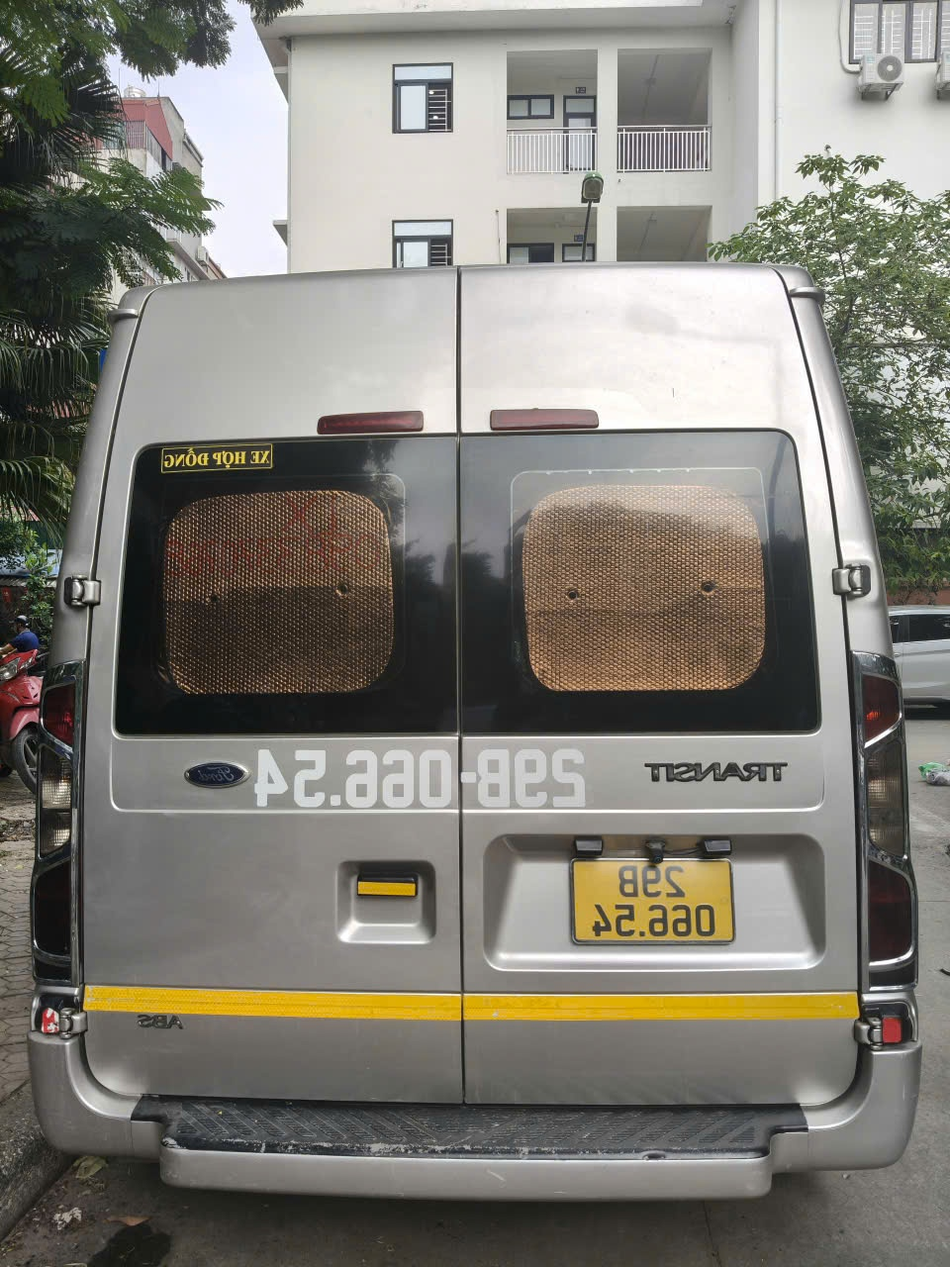plate: (635, 758, 797, 786)
